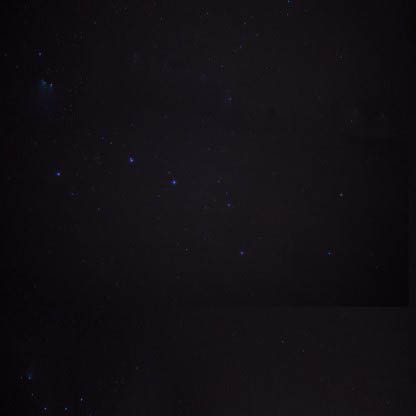Ursa Major: (46, 158, 70, 186), (235, 242, 256, 266), (317, 239, 337, 264), (219, 194, 240, 216), (120, 146, 140, 169), (165, 171, 185, 194), (331, 183, 350, 204)
